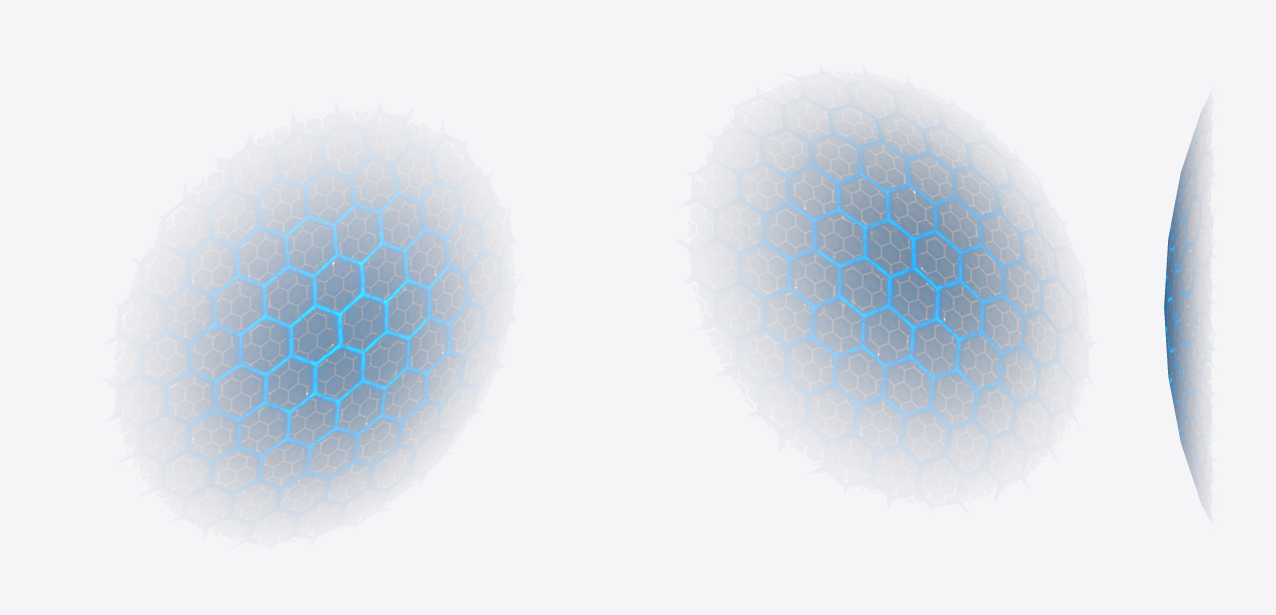
File: shield.glb
The picture shows the model from 3 angles, left to right: view 1: azimuth 30°, elevation 25°; view 2: azimuth 150°, elevation 25°; view 3: azimuth 270°, elevation 25°; orthographic projection. The views are drawn at different scales.
Visible parts, largest first — view 1: Object_7; view 2: Object_7; view 3: Object_7.
Part boxes in pixels (x1,y1,x2,y2): Object_7: (155,153,492,514); Object_7: (727,102,1065,463); Object_7: (1164,115,1204,496).
Size of the model in its own units: 19.93 by 19.93 by 3.32.
Materials: 1 (1 with a texture image).
